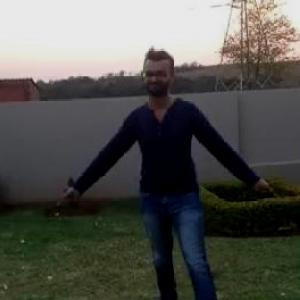land: (57, 48, 286, 299)
